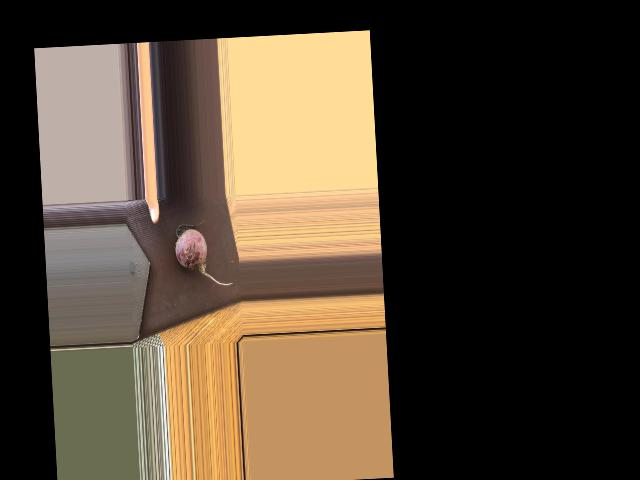beet: (173, 216, 231, 288)
